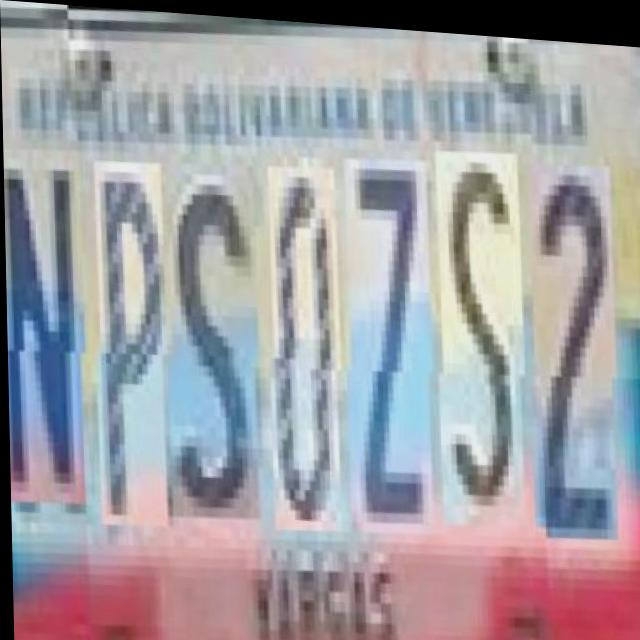0: (266, 163, 343, 533)
2: (526, 148, 619, 530)
n: (3, 156, 88, 517)
p: (93, 159, 170, 529)
s: (435, 146, 527, 528), (165, 160, 262, 521)
z: (342, 154, 435, 536)
